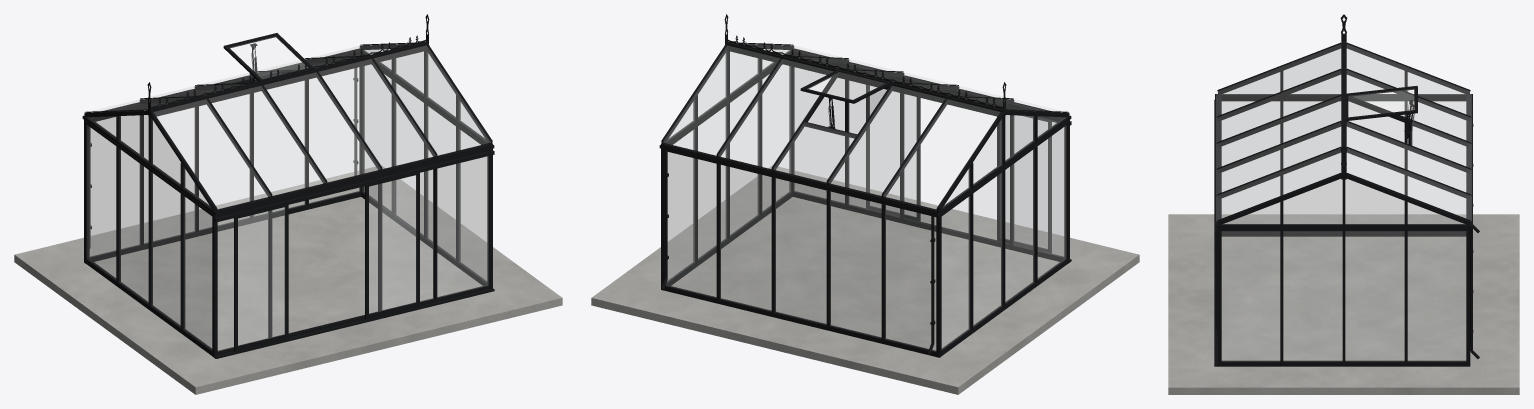
The model's file is sg-rect-10-2-12-7-decor.glb.
3 renders of one model, left to right at view 1: azimuth 30°, elevation 25°; view 2: azimuth 150°, elevation 25°; view 3: azimuth 270°, elevation 25°, orthographic. The views are drawn at different scales.
Parts seen in each view (by area): view 1: scandiglas-rect-10-2-12-7-decor; view 2: scandiglas-rect-10-2-12-7-decor; view 3: scandiglas-rect-10-2-12-7-decor.
Boxes of the visible parts, x1,y1,x2,y2 form: scandiglas-rect-10-2-12-7-decor: (14, 14, 562, 394); scandiglas-rect-10-2-12-7-decor: (591, 14, 1139, 394); scandiglas-rect-10-2-12-7-decor: (1168, 14, 1519, 394).
Bounding box in the file's own units: 5.11 × 3.14 × 4.38.
5 materials, 1 textured.
